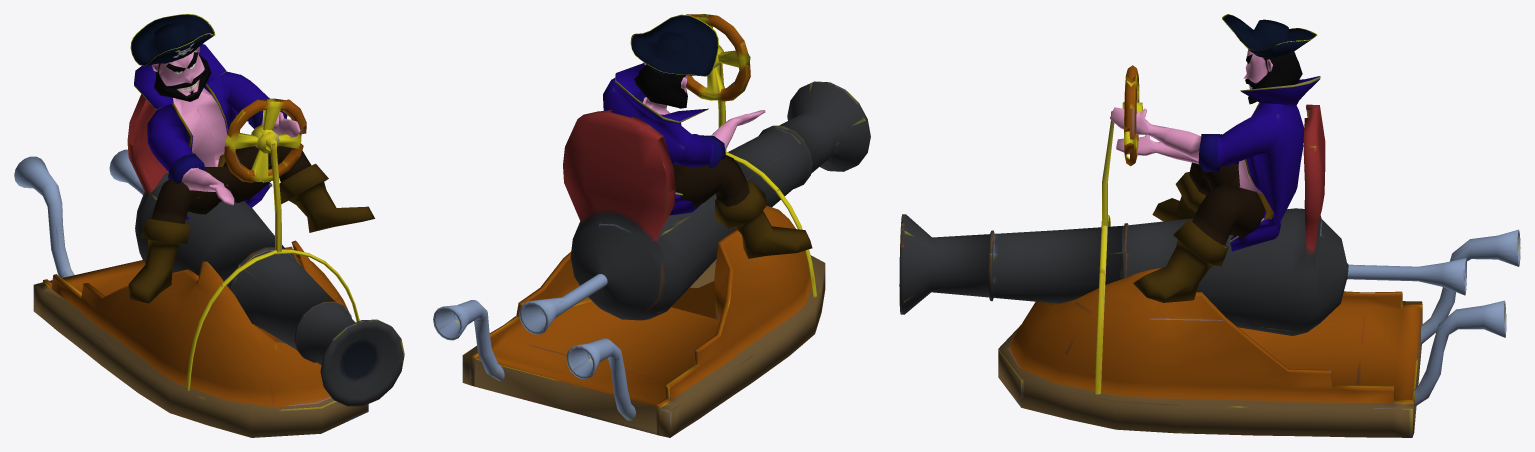
The model's file is pirataGiroDer_000171.obj.
3 renders of one model, left to right at view 1: azimuth 30°, elevation 25°; view 2: azimuth 150°, elevation 25°; view 3: azimuth 270°, elevation 25°, orthographic. The views are drawn at different scales.
Visible parts, largest first — view 1: carro_pirata, Pirata_PirataH_Pirata_PirataH.001; view 2: carro_pirata, Pirata_PirataH_Pirata_PirataH.001; view 3: carro_pirata, Pirata_PirataH_Pirata_PirataH.001.
Part boxes in pixels (x1=…): carro_pirata: x1=14, y1=94, x2=404, y2=437; Pirata_PirataH_Pirata_PirataH.001: x1=128, y1=14, x2=374, y2=303; carro_pirata: x1=433, y1=14, x2=870, y2=437; Pirata_PirataH_Pirata_PirataH.001: x1=603, y1=14, x2=812, y2=258; carro_pirata: x1=899, y1=65, x2=1520, y2=437; Pirata_PirataH_Pirata_PirataH.001: x1=1110, y1=14, x2=1320, y2=302.
Size of the model in its own units: 5.66 by 7.49 by 12.1.
2 materials, 2 textured.
